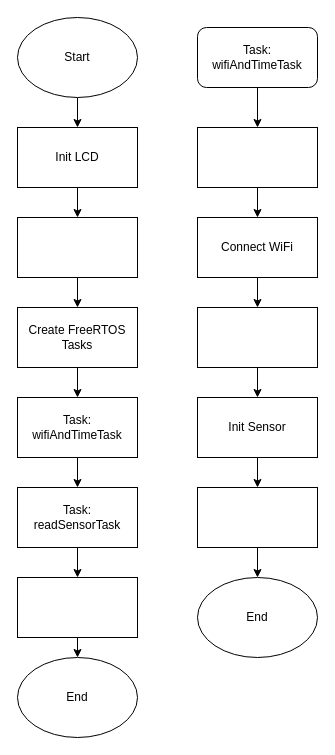
Some shapes in this 335 by 755 pixel diagram are drawn without their labels. The shapes that lost their labels are listed below. From the top down, each one's centre as x and y in pixels, then its label:
At point 257,157: "Init RTC".
At point 77,247: "Create Task Queues and Semaphores".
At point 257,337: "Sync Time".
At point 257,517: "Signal Semaphore for Next Task".
At point 77,607: "Task: logDataTask".
